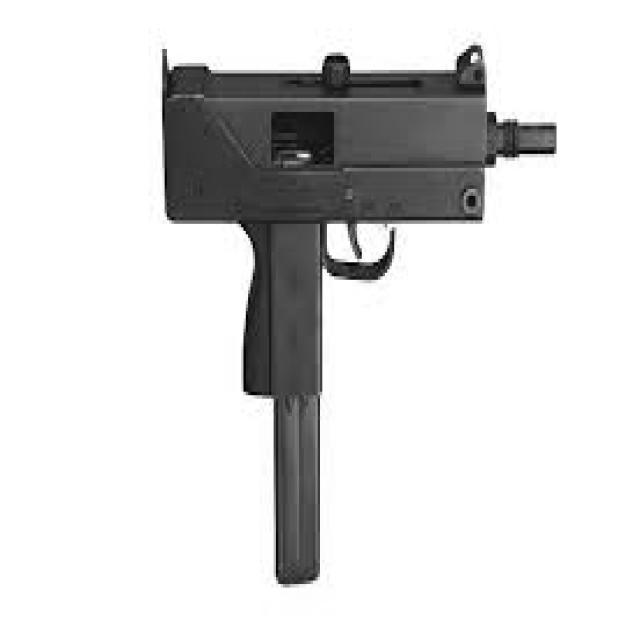semi: (150, 45, 559, 598)
